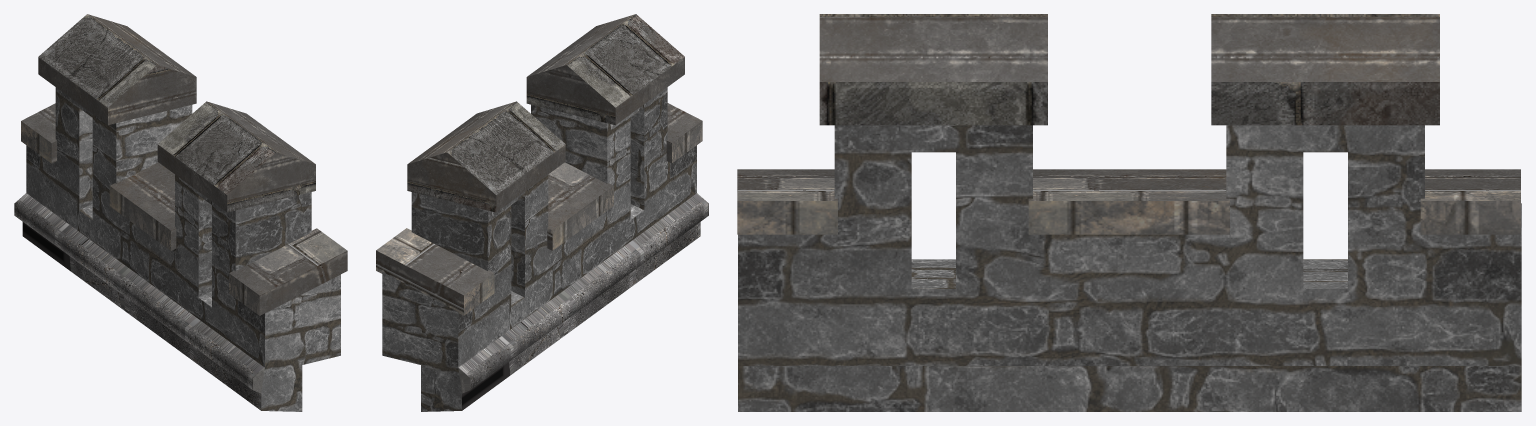
File: MC_Battlements_Wall_A_4m.fbx
The picture shows the model from 3 angles, left to right: view 1: azimuth 30°, elevation 25°; view 2: azimuth 150°, elevation 25°; view 3: azimuth 270°, elevation 25°; orthographic projection. The views are drawn at different scales.
Visible parts, largest first — view 1: MC_Battlements_Wall_A_4m_LOD0; view 2: MC_Battlements_Wall_A_4m_LOD0; view 3: MC_Battlements_Wall_A_4m_LOD0.
Boxes of the visible parts, x1=… form: MC_Battlements_Wall_A_4m_LOD0: x1=14, y1=14, x2=347, y2=411; MC_Battlements_Wall_A_4m_LOD0: x1=376, y1=14, x2=708, y2=411; MC_Battlements_Wall_A_4m_LOD0: x1=737, y1=14, x2=1521, y2=411.
Size of what is drawn, in the model's own units: 92.28 by 224 by 400.
